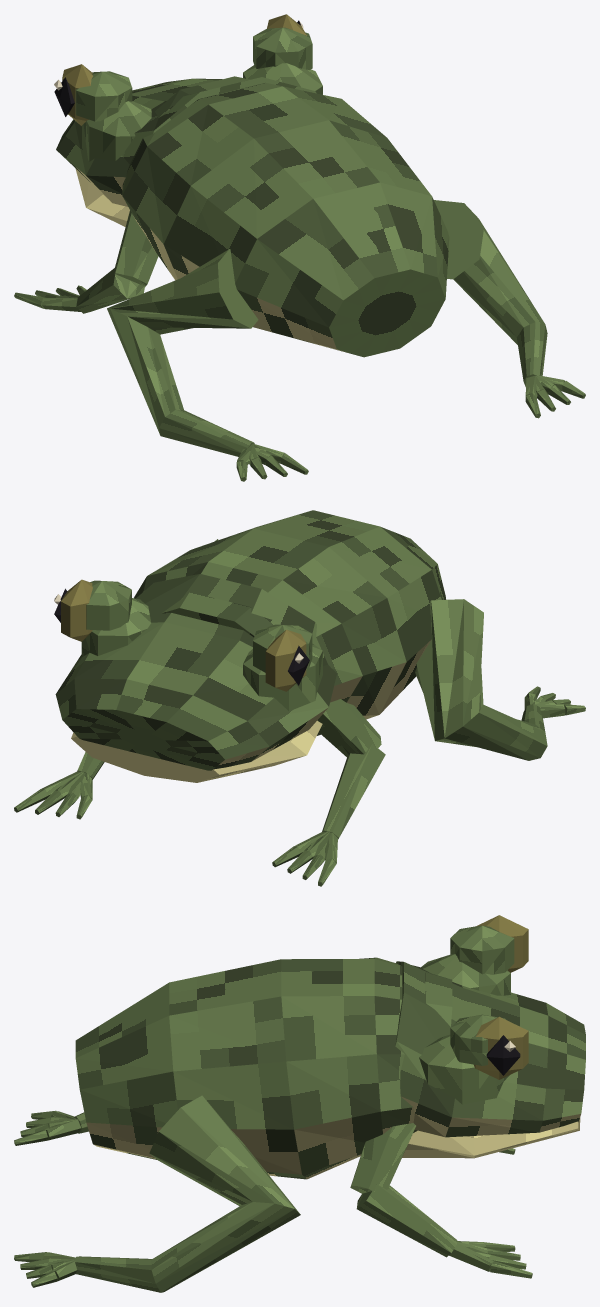
The model's file is mon_bullfrog_frog.glb.
3 views of the same model, one above another, from view 1: azimuth 30°, elevation 25°; view 2: azimuth 150°, elevation 25°; view 3: azimuth 270°, elevation 25° (orthographic).
Visible parts, largest first — view 1: closed_body; view 2: closed_body; view 3: closed_body.
Boxes of the visible parts, box(x1,y1,x2,y2) form: closed_body: box(14, 14, 585, 481); closed_body: box(14, 510, 585, 886); closed_body: box(14, 915, 585, 1292).
Size of the model in its own units: 0.2334 by 0.1341 by 0.2925.
Materials: 1 (1 with a texture image).
